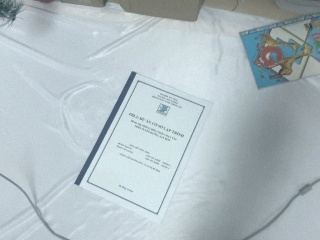book: (237, 19, 320, 86)
